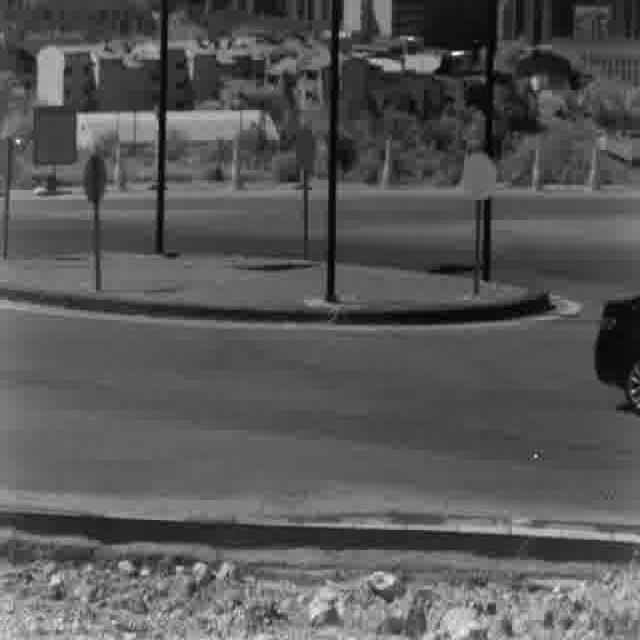Car: (590, 292, 640, 413)
